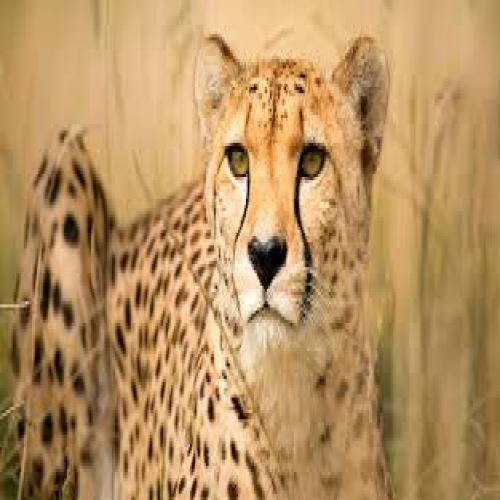cheetah-endangered: (13, 37, 389, 500)
